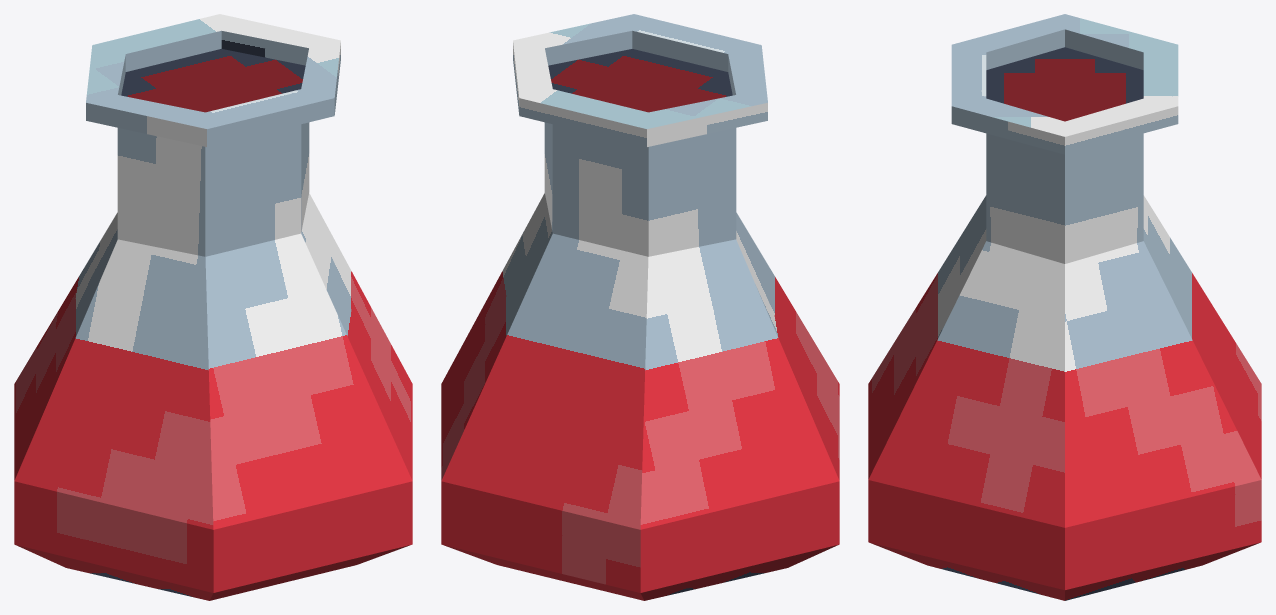
Rendered from Beaker_3.fbx.
3 renders of one model, left to right at view 1: azimuth 30°, elevation 25°; view 2: azimuth 150°, elevation 25°; view 3: azimuth 270°, elevation 25°, orthographic.
Parts seen in each view (by area): view 1: cylinder; view 2: cylinder; view 3: cylinder.
Part boxes in pixels (left/top/right/bottom): cylinder: left=14, top=14, right=412, bottom=600; cylinder: left=441, top=14, right=839, bottom=600; cylinder: left=868, top=14, right=1261, bottom=600.
Size of the model in its own units: 28.87 by 31.88 by 25.
Materials: 1 (1 with a texture image).
